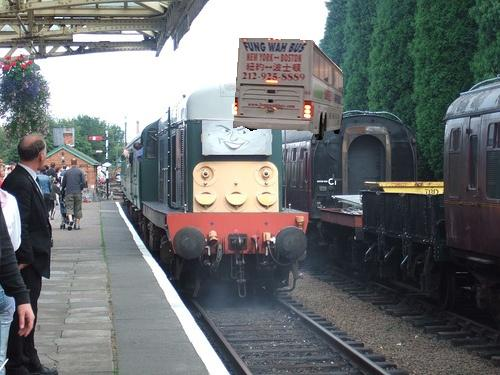tampered: (234, 39, 343, 140)
